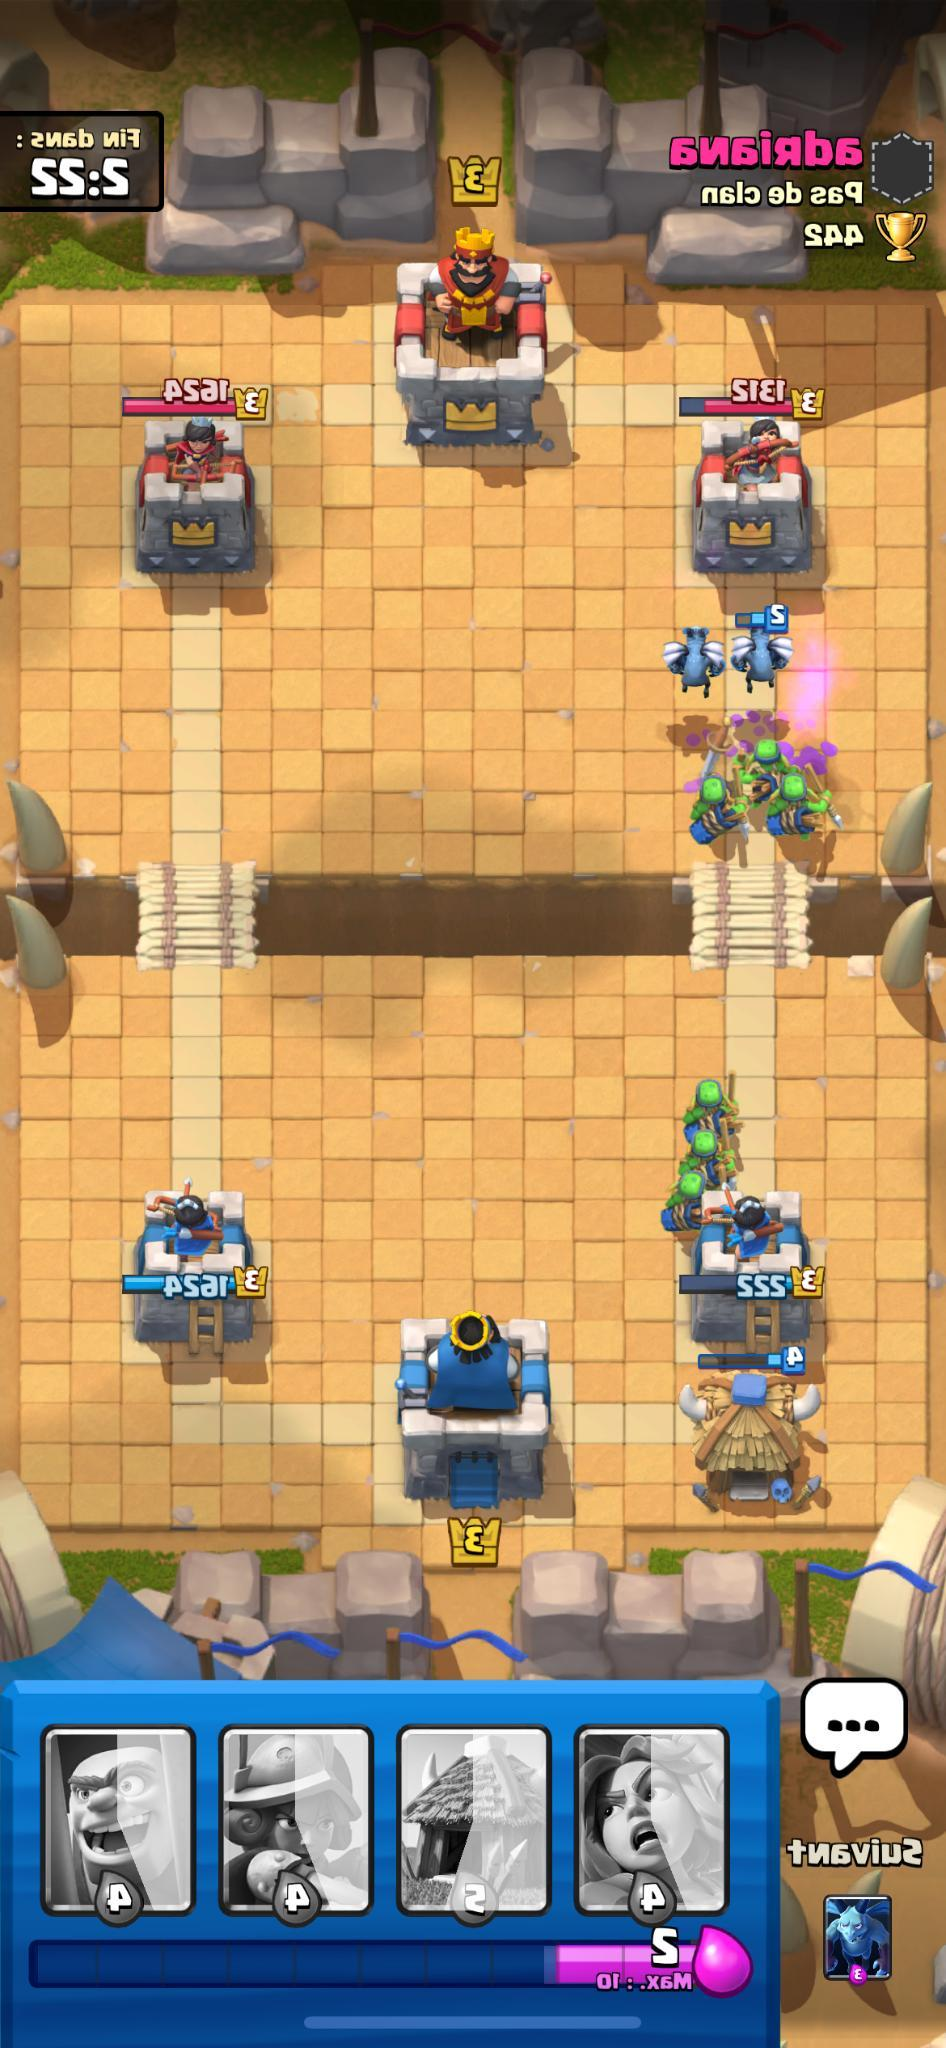enemy_goblin_hut: (675, 1353, 832, 1518)
player_minions: (726, 599, 804, 698), (661, 617, 723, 703)
player_spear_goblins: (763, 770, 844, 853), (685, 771, 760, 853), (677, 1067, 737, 1137), (723, 724, 788, 788), (659, 1171, 711, 1234), (669, 1130, 741, 1174)
